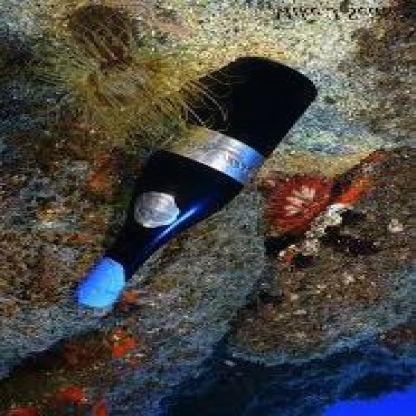gbottle: (74, 55, 318, 310)
